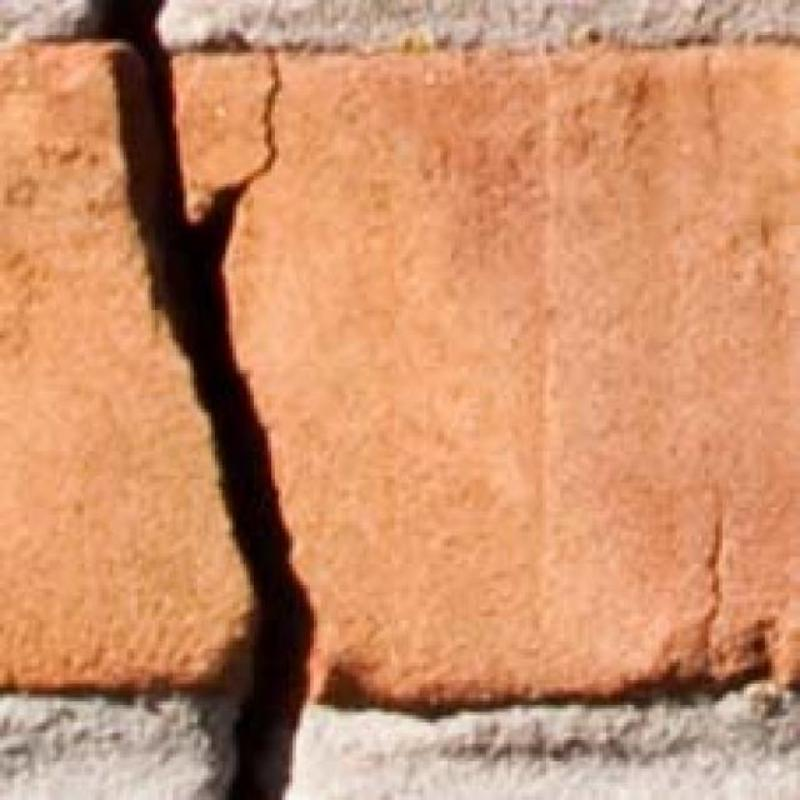pothole: (92, 0, 314, 799)
